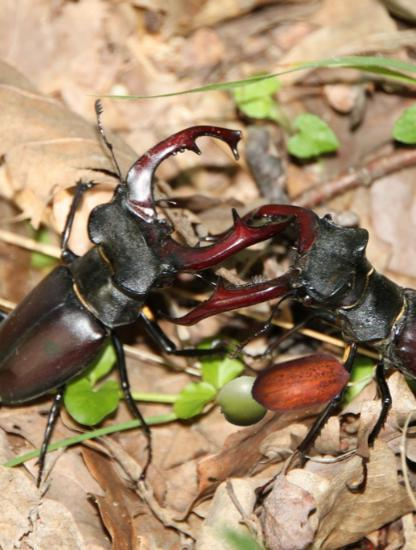Apple: (218, 374, 273, 429)
Nut: (249, 332, 353, 436)
